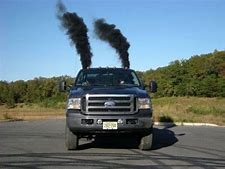smoke: (55, 11, 94, 67), (93, 18, 132, 66)
